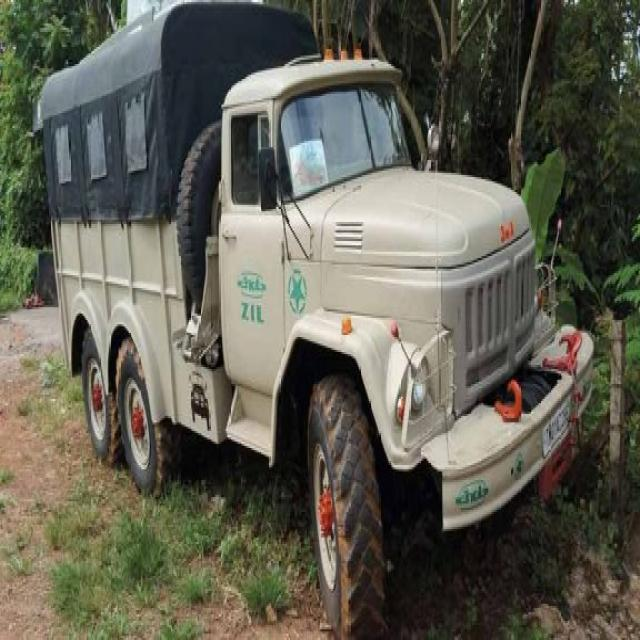truck: (41, 5, 594, 636)
